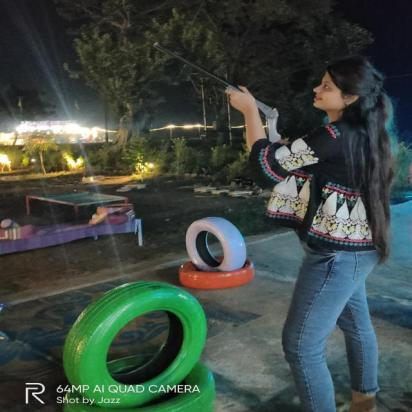Gun: (151, 40, 290, 166)
